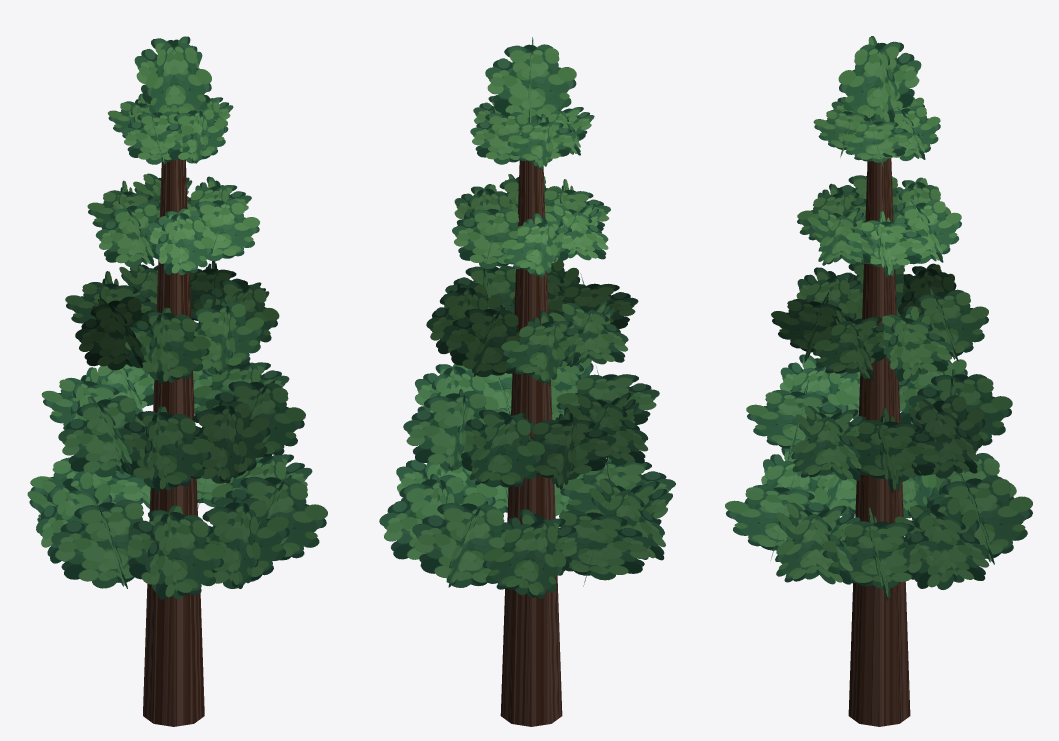
File: anime_tree_cedar.glb
The picture shows the model from 3 angles, left to right: view 1: azimuth 30°, elevation 25°; view 2: azimuth 150°, elevation 25°; view 3: azimuth 270°, elevation 25°; orthographic projection.
Visible parts, largest first — view 1: anime_tree_cedar; view 2: anime_tree_cedar; view 3: anime_tree_cedar.
Part boxes in pixels (x1,y1,x2,y2): anime_tree_cedar: [27, 36, 327, 726]; anime_tree_cedar: [379, 37, 675, 726]; anime_tree_cedar: [725, 36, 1032, 726].
Size of the model in its own units: 3.53 by 8.12 by 3.59.
Materials: 2 (2 with a texture image).
